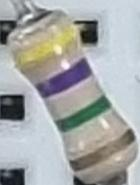Blue: (33, 56, 95, 101)
Green: (53, 92, 114, 135)
Side-Silver: (68, 127, 137, 175)
Yellow: (12, 21, 79, 68)
